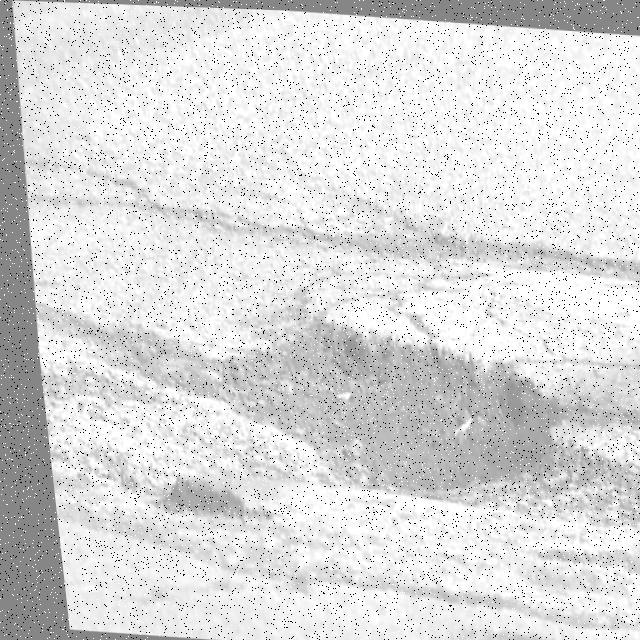pothole: (184, 280, 577, 505)
